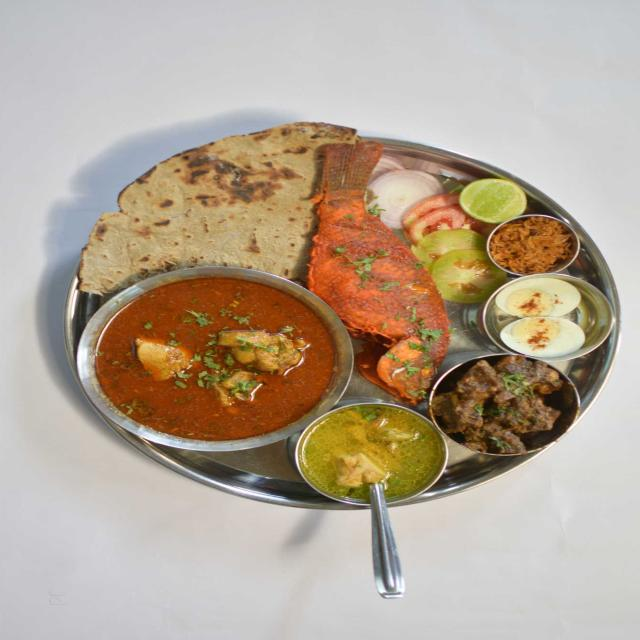non veg meals: (55, 112, 632, 518)
